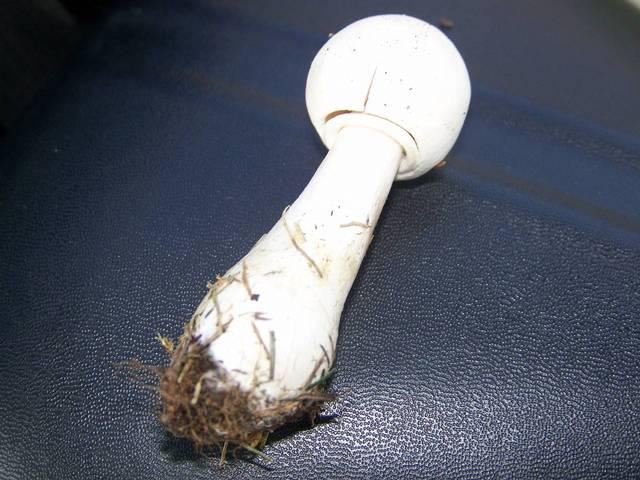Non-edible Mushroom: (149, 12, 473, 462)
